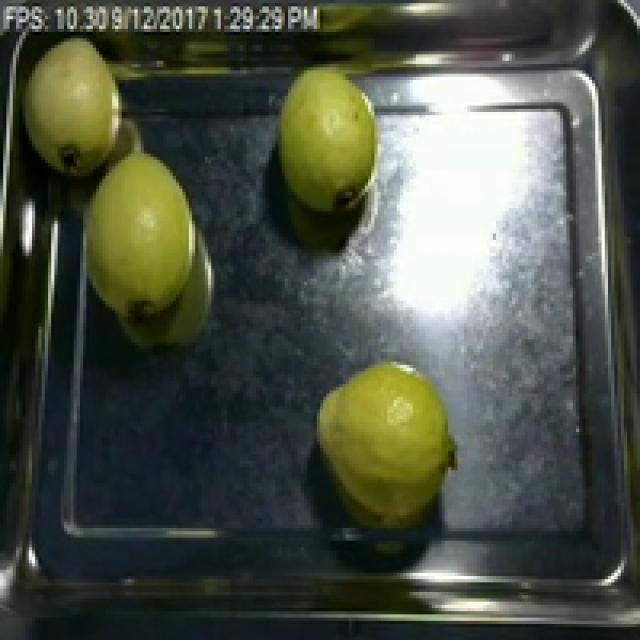Fruit: (74, 141, 218, 349), (307, 352, 461, 531), (3, 16, 138, 189), (272, 58, 390, 227)
